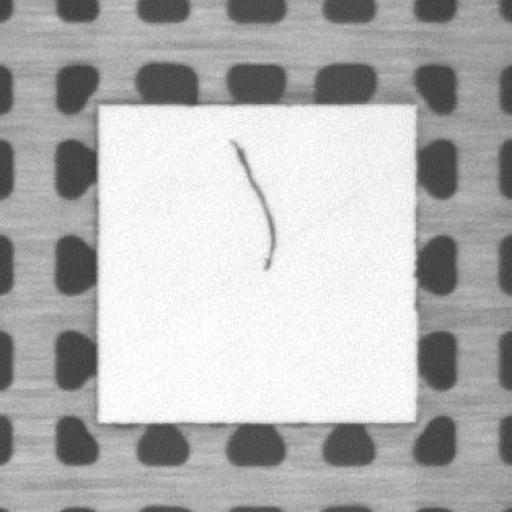DIE_INK: (229, 138, 275, 270)
